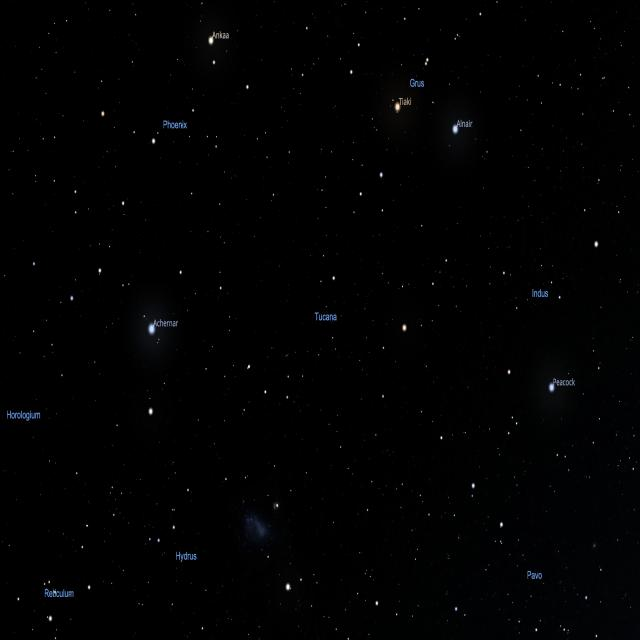Tucana: (243, 270, 418, 399)
